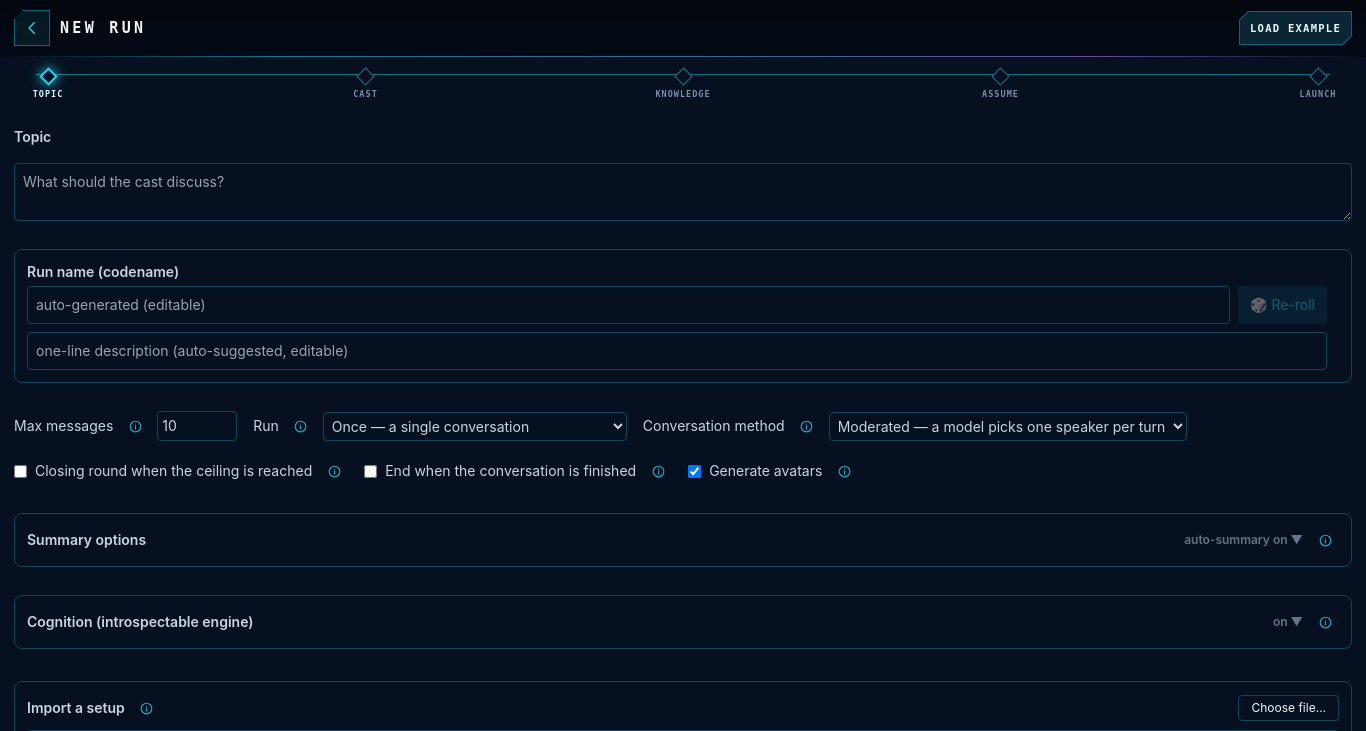
Test: NewRunForm conversation method › makes convergence automatic for rotation too, not just all-talk
The image size is (1366, 731).
Check: the dropdown next to "Moderated" is shown, box [829,412,1187,440]
Click the button "Load example": x=1296, y=28 [1239,11,1352,45]
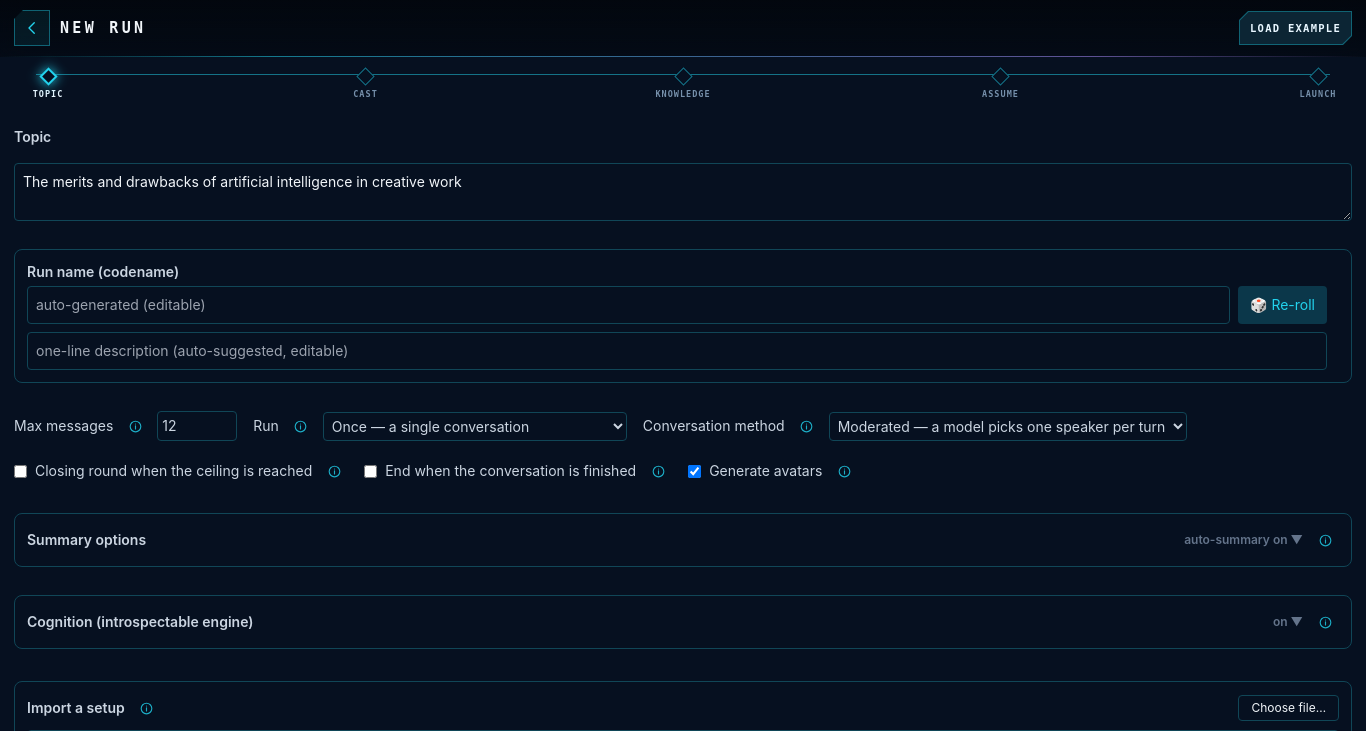
Select "Rotation — everyone once per round, in order" in the dropdown next to "Moderated": x=1008, y=426 [829,412,1187,440]
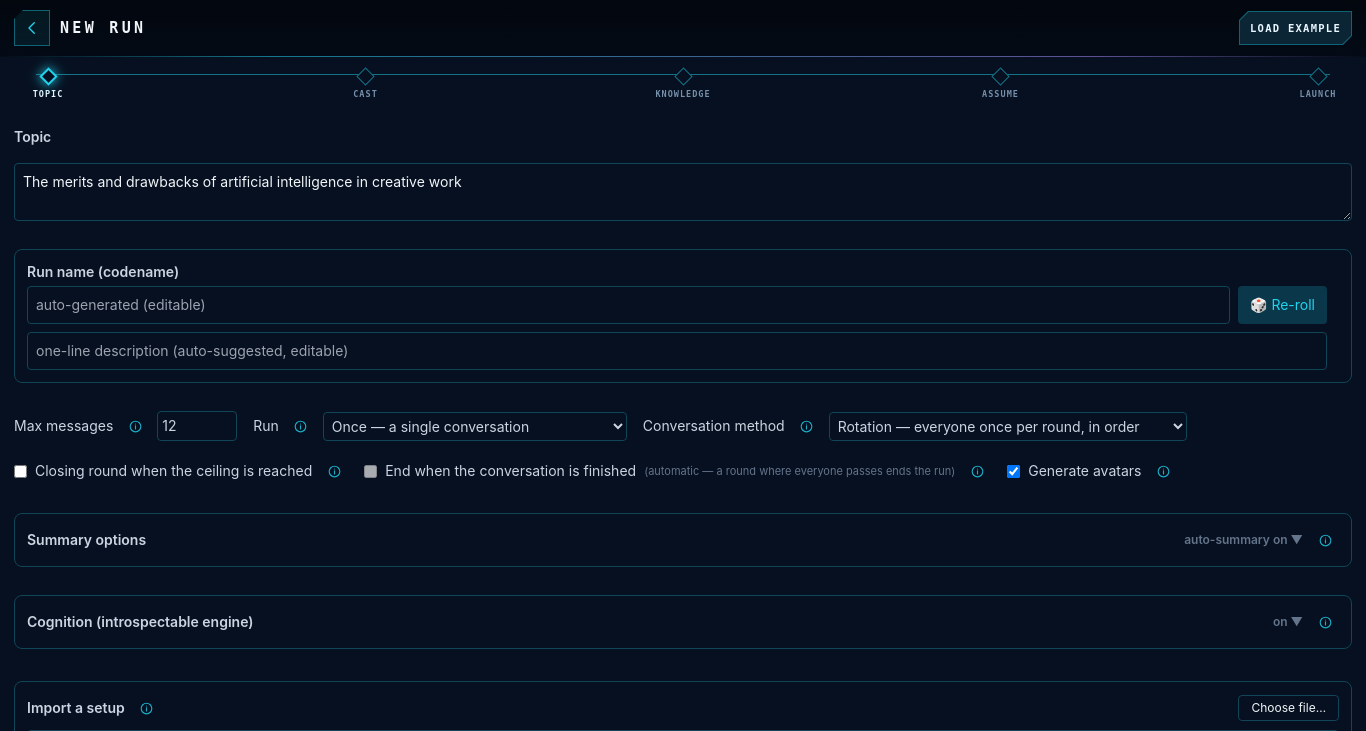
Check: the 2nd checkbox is disabled, box [364,464,377,478]
Select "Hybrid — all talk to open, then moderated" in the dropdown next to "Moderated": x=1008, y=426 [829,412,1187,440]
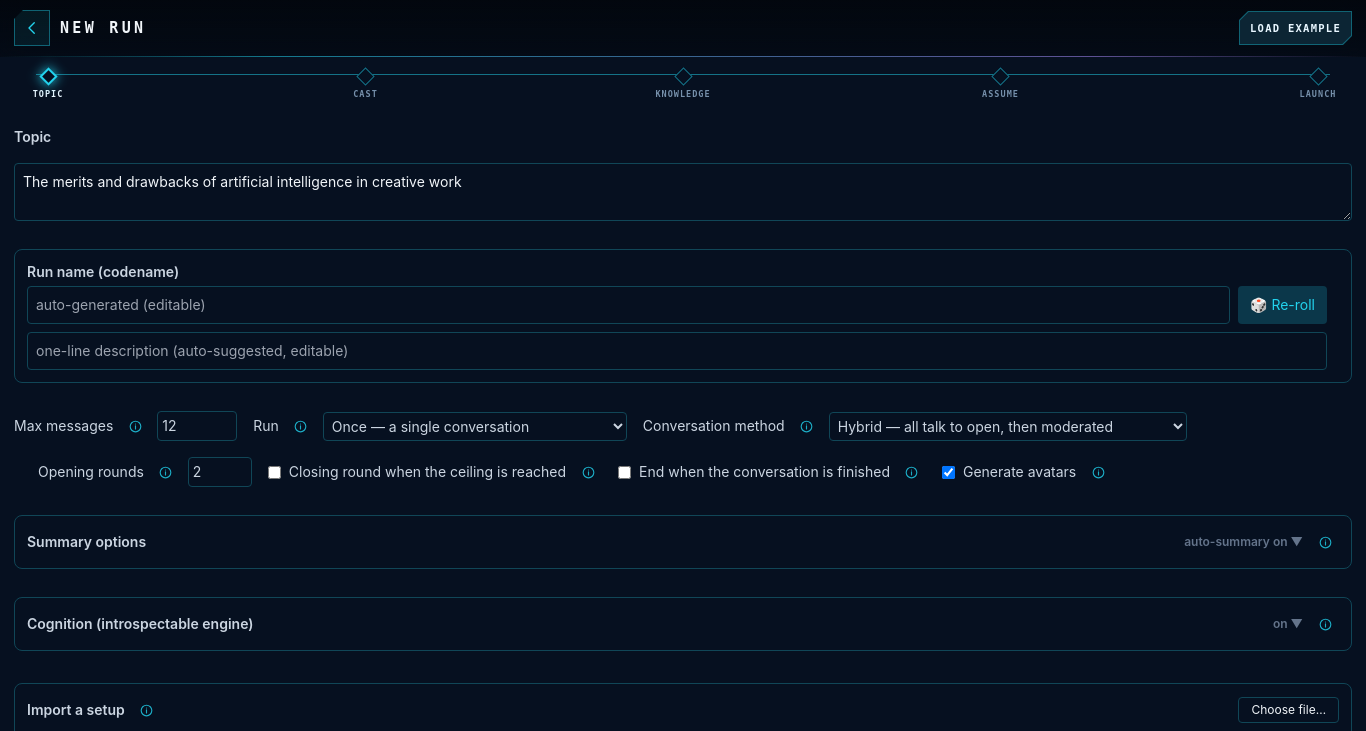
Check: the checkbox labelled "End when the conversation is finished" is enabled, box [618,466,631,478]
